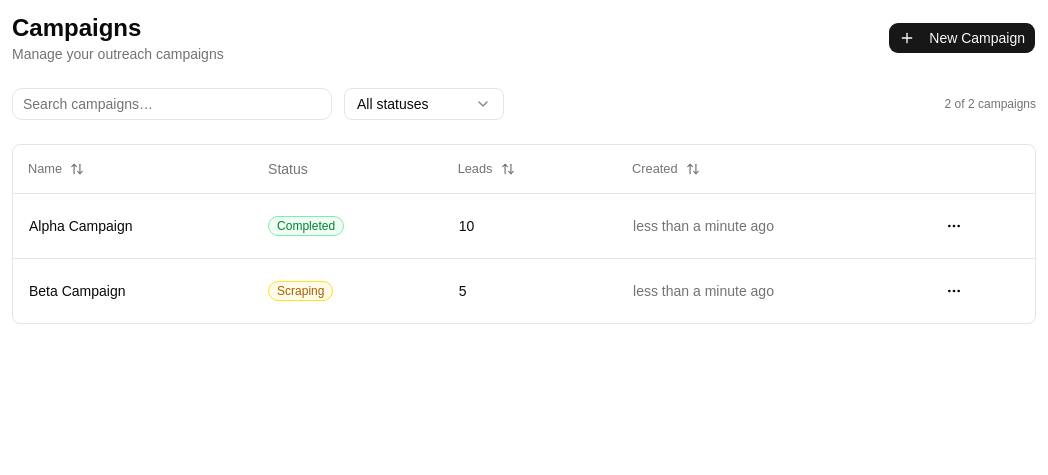
it: CampaignList › filters campaigns by status
Expected: the link "Alpha Campaign" is shown, [29, 218, 132, 234]
# Open the shadcn Select dropdown and pick "Scraping"
What coordinates should you click on to do the following:
click the dropdown
I would click on:
 (424, 104)
Its box is [344, 88, 504, 120].
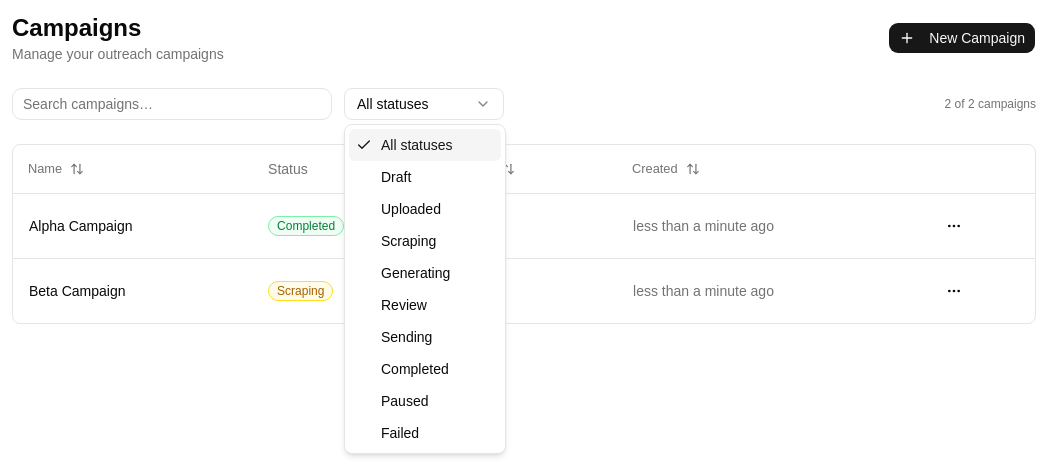
What coordinates should you click on to do the following:
click the option "Scraping"
I would click on:
 (409, 241)
Its box is [381, 233, 436, 249].
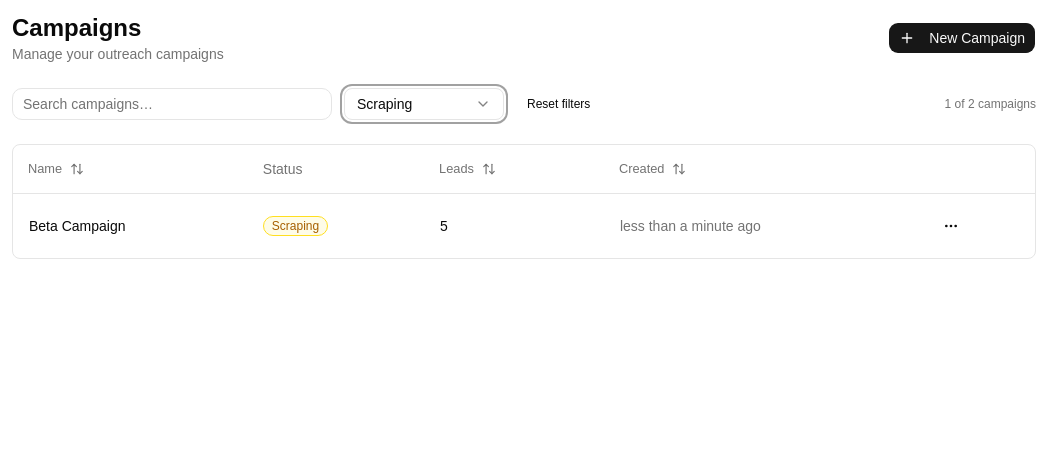
Now the link "Alpha Campaign" is gone
Now the link "Beta Campaign" is shown, box [29, 218, 126, 234]
